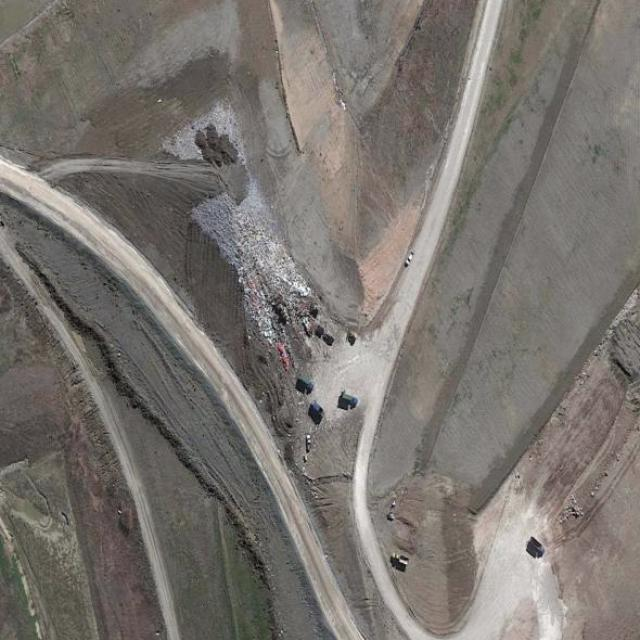dump_site: (191, 168, 317, 351)
